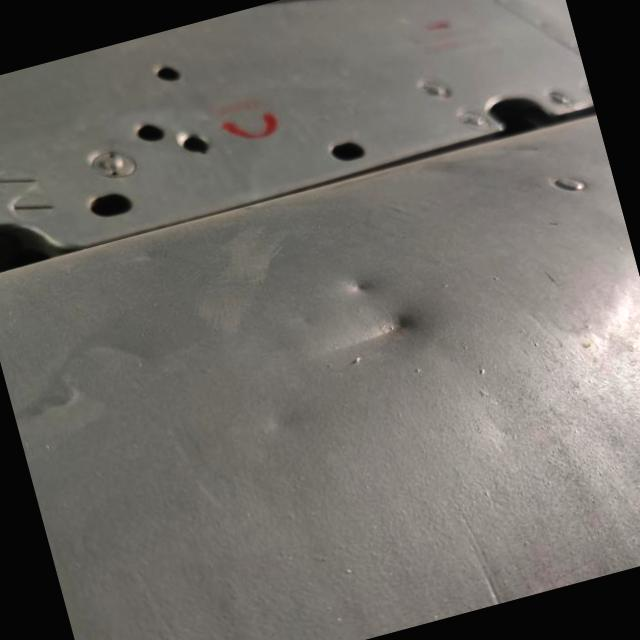Missing Fastener: (301, 125, 374, 185), (166, 113, 220, 173), (79, 184, 139, 232), (138, 46, 192, 95), (125, 111, 171, 155)
dent: (383, 300, 439, 356), (332, 264, 388, 319)
